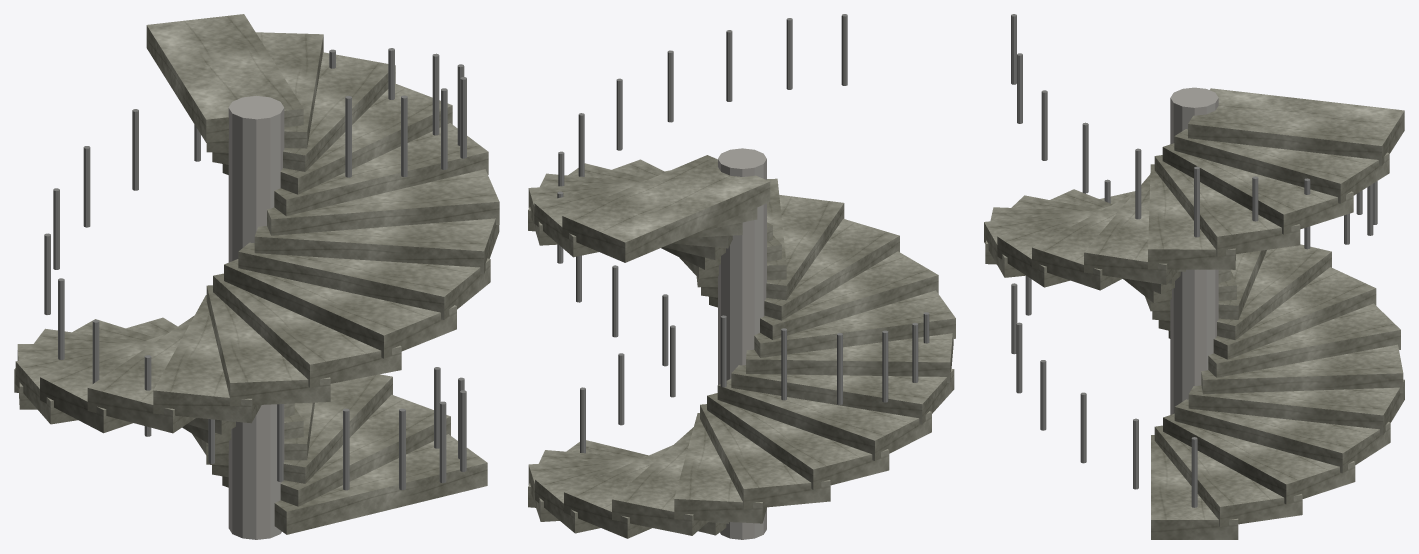
Rendered from turm_wendeltreppe_stein.glb.
3 views of the same model, side by side, from view 1: azimuth 30°, elevation 25°; view 2: azimuth 150°, elevation 25°; view 3: azimuth 270°, elevation 25° (orthographic). The views are drawn at different scales.
Parts seen in each view (by area): view 1: turm_wendeltreppe_stein_000, turm_wendeltreppe_stein_024, turm_wendeltreppe_stein_017, turm_wendeltreppe_stein_016, turm_wendeltreppe_stein_018, turm_wendeltreppe_stein_001, turm_wendeltreppe_stein_019, turm_wendeltreppe_stein_015, turm_wendeltreppe_stein_020, turm_wendeltreppe_stein_014, turm_wendeltreppe_stein_013, turm_wendeltreppe_stein_002 (+27 smaller); view 2: turm_wendeltreppe_stein_024, turm_wendeltreppe_stein_000, turm_wendeltreppe_stein_010, turm_wendeltreppe_stein_011, turm_wendeltreppe_stein_009, turm_wendeltreppe_stein_014, turm_wendeltreppe_stein_013, turm_wendeltreppe_stein_012, turm_wendeltreppe_stein_008, turm_wendeltreppe_stein_015, turm_wendeltreppe_stein_007, turm_wendeltreppe_stein_006 (+13 smaller); view 3: turm_wendeltreppe_stein_024, turm_wendeltreppe_stein_000, turm_wendeltreppe_stein_004, turm_wendeltreppe_stein_023, turm_wendeltreppe_stein_005, turm_wendeltreppe_stein_003, turm_wendeltreppe_stein_006, turm_wendeltreppe_stein_007, turm_wendeltreppe_stein_022, turm_wendeltreppe_stein_008, turm_wendeltreppe_stein_002, turm_wendeltreppe_stein_021 (+13 smaller).
Boxes of the visible parts, bbox=[...] form: turm_wendeltreppe_stein_000: bbox=[228, 95, 284, 539]; turm_wendeltreppe_stein_024: bbox=[146, 14, 303, 142]; turm_wendeltreppe_stein_017: bbox=[238, 242, 490, 319]; turm_wendeltreppe_stein_016: bbox=[224, 259, 456, 358]; turm_wendeltreppe_stein_018: bbox=[254, 218, 499, 274]; turm_wendeltreppe_stein_001: bbox=[274, 434, 487, 534]; turm_wendeltreppe_stein_019: bbox=[267, 169, 499, 235]; turm_wendeltreppe_stein_015: bbox=[213, 273, 401, 387]; turm_wendeltreppe_stein_020: bbox=[274, 123, 488, 215]; turm_wendeltreppe_stein_014: bbox=[206, 285, 330, 406]; turm_wendeltreppe_stein_013: bbox=[153, 295, 261, 423]; turm_wendeltreppe_stein_002: bbox=[222, 394, 450, 506]; turm_wendeltreppe_stein_024: bbox=[562, 155, 770, 262]; turm_wendeltreppe_stein_000: bbox=[718, 148, 766, 539]; turm_wendeltreppe_stein_010: bbox=[717, 379, 931, 460]; turm_wendeltreppe_stein_011: bbox=[731, 365, 954, 424]; turm_wendeltreppe_stein_009: bbox=[707, 393, 889, 489]; turm_wendeltreppe_stein_014: bbox=[760, 251, 938, 339]; turm_wendeltreppe_stein_013: bbox=[754, 290, 955, 357]; turm_wendeltreppe_stein_012: bbox=[746, 333, 953, 382]; turm_wendeltreppe_stein_008: bbox=[700, 404, 830, 509]; turm_wendeltreppe_stein_015: bbox=[709, 219, 899, 320]; turm_wendeltreppe_stein_007: bbox=[674, 413, 766, 523]; turm_wendeltreppe_stein_006: bbox=[612, 427, 708, 535]; turm_wendeltreppe_stein_024: bbox=[1188, 88, 1404, 165]; turm_wendeltreppe_stein_000: bbox=[1170, 87, 1218, 414]; turm_wendeltreppe_stein_004: bbox=[1174, 399, 1390, 473]; turm_wendeltreppe_stein_023: bbox=[1174, 129, 1389, 203]; turm_wendeltreppe_stein_005: bbox=[1188, 379, 1404, 435]; turm_wendeltreppe_stein_003: bbox=[1163, 413, 1355, 504]; turm_wendeltreppe_stein_006: bbox=[1201, 344, 1403, 394]; turm_wendeltreppe_stein_007: bbox=[1208, 303, 1400, 377]; turm_wendeltreppe_stein_022: bbox=[1162, 143, 1353, 234]; turm_wendeltreppe_stein_008: bbox=[1168, 267, 1376, 359]; turm_wendeltreppe_stein_002: bbox=[1154, 425, 1302, 526]; turm_wendeltreppe_stein_021: bbox=[1154, 155, 1300, 256].
Size of the model in its own units: 4.18 by 4.85 by 4.19.
1 material, 1 textured.
